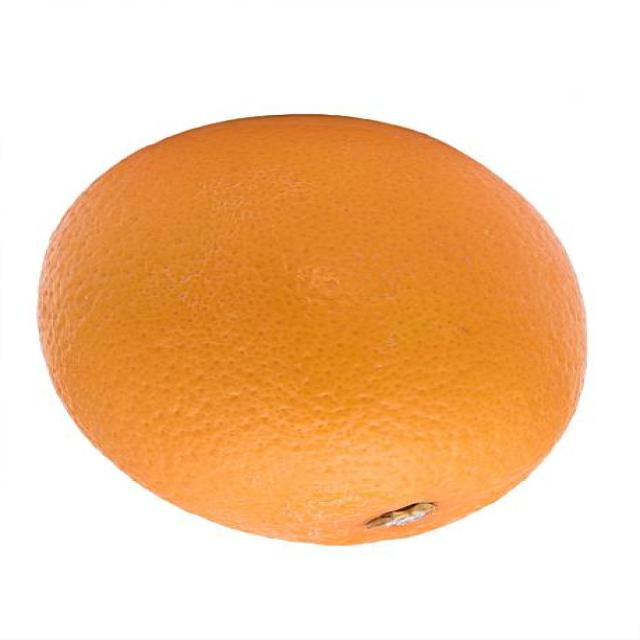Good_Orange: (36, 115, 590, 549)
